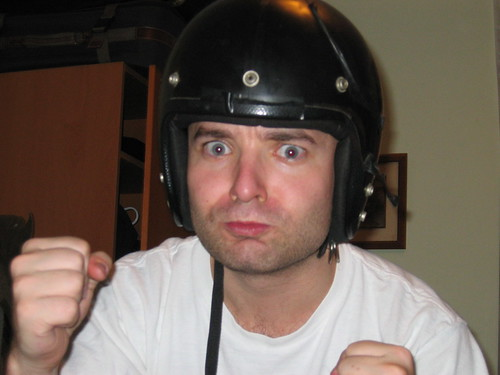helmet: (150, 0, 394, 127)
